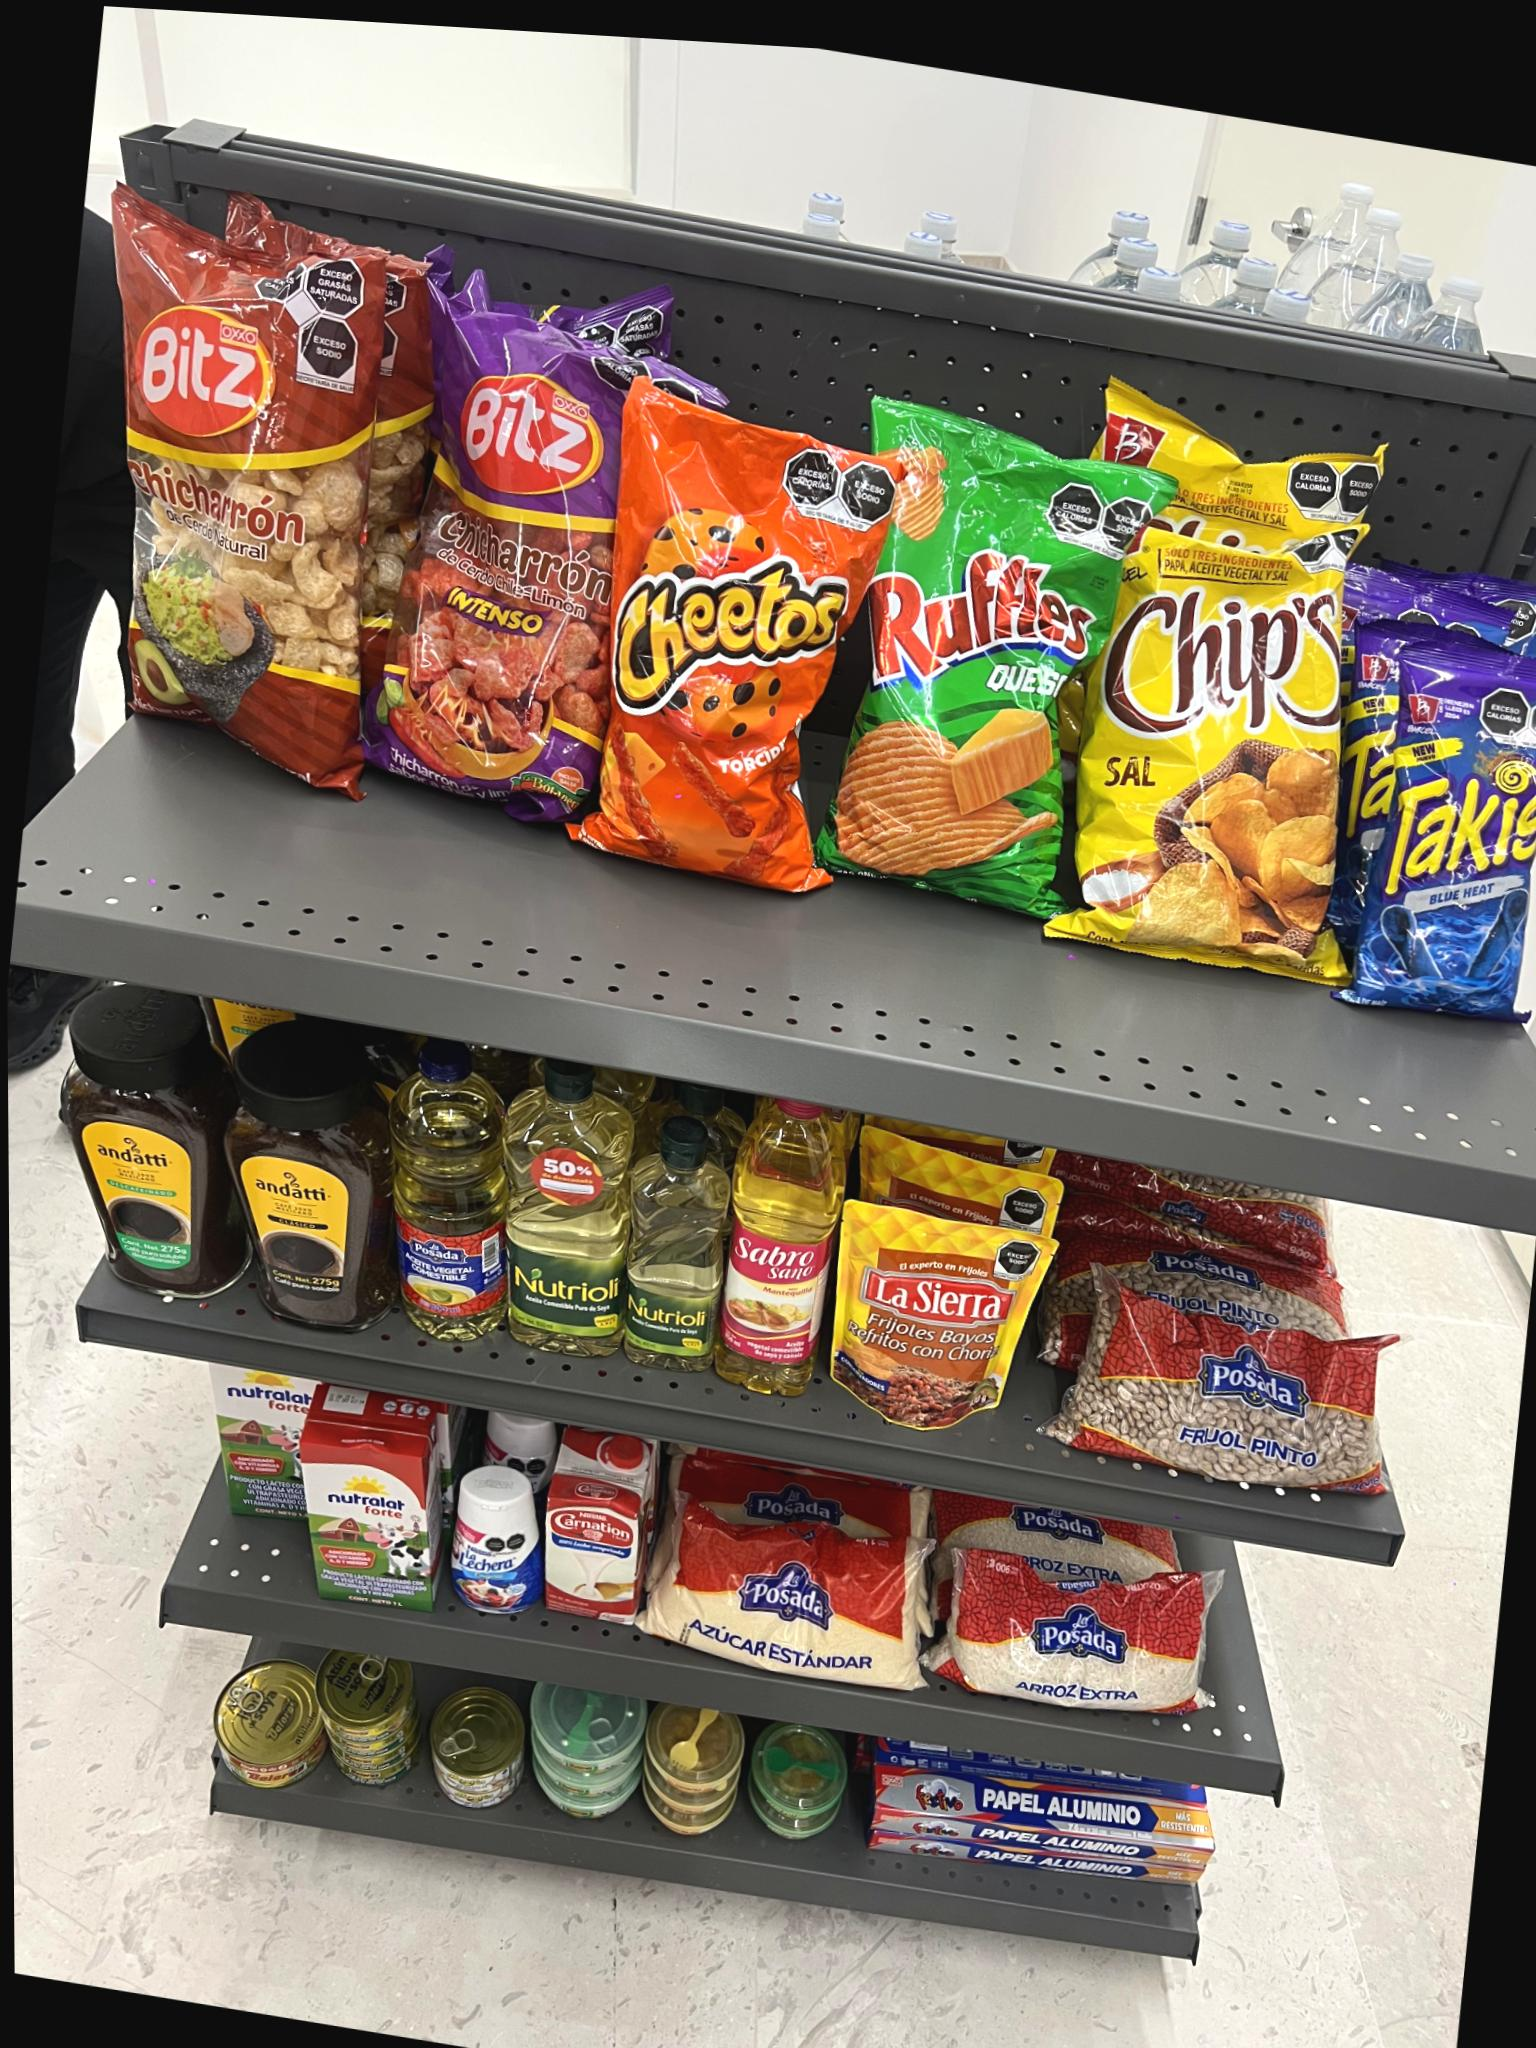aceite_nutrioli_400ml: (621, 1113, 742, 1379)
aceite_nutrioli_850ml: (503, 1058, 639, 1374)
aceite_posada: (368, 1039, 534, 1366)
aceite_saborsano: (703, 1092, 852, 1409)
andatti: (29, 1026, 236, 1313), (207, 1063, 397, 1348)
arroz_laposada: (933, 1548, 1213, 1729)
atun_dolores_blanco: (523, 1711, 641, 1827)
atun_dolores_masdos: (207, 1659, 318, 1798)
atun_dolores_naranja: (642, 1730, 741, 1853)
atun_dolores_normal: (315, 1663, 410, 1798)
atun_mazatun: (426, 1685, 526, 1819)
atun_mazatun_verde: (745, 1758, 845, 1850)
azucar_laposada: (644, 1508, 937, 1701)
carnation: (534, 1500, 642, 1630)
cheetos: (571, 369, 876, 906)
chicharron_bitz_intenso: (374, 273, 658, 848)
chicharron_bitz_natural: (55, 185, 421, 808)
chips_sal: (1050, 506, 1386, 1000)
frijol_laposada: (1063, 1271, 1425, 1509)
frijol_lasierra: (820, 1193, 1063, 1450)
lalechera: (445, 1493, 541, 1619)
leche_nutralatforte: (292, 1430, 445, 1614), (190, 1363, 313, 1540)
papel_aluminio: (868, 1800, 1213, 1903)
ruffles: (818, 385, 1105, 922)
takis: (1350, 619, 1536, 1047)
